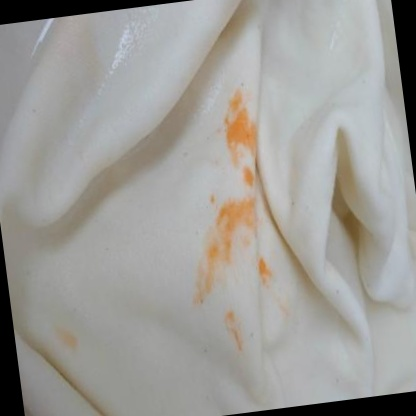kimchi: (178, 181, 273, 305), (206, 81, 280, 185), (215, 301, 257, 357), (255, 253, 287, 322), (53, 314, 90, 360)
